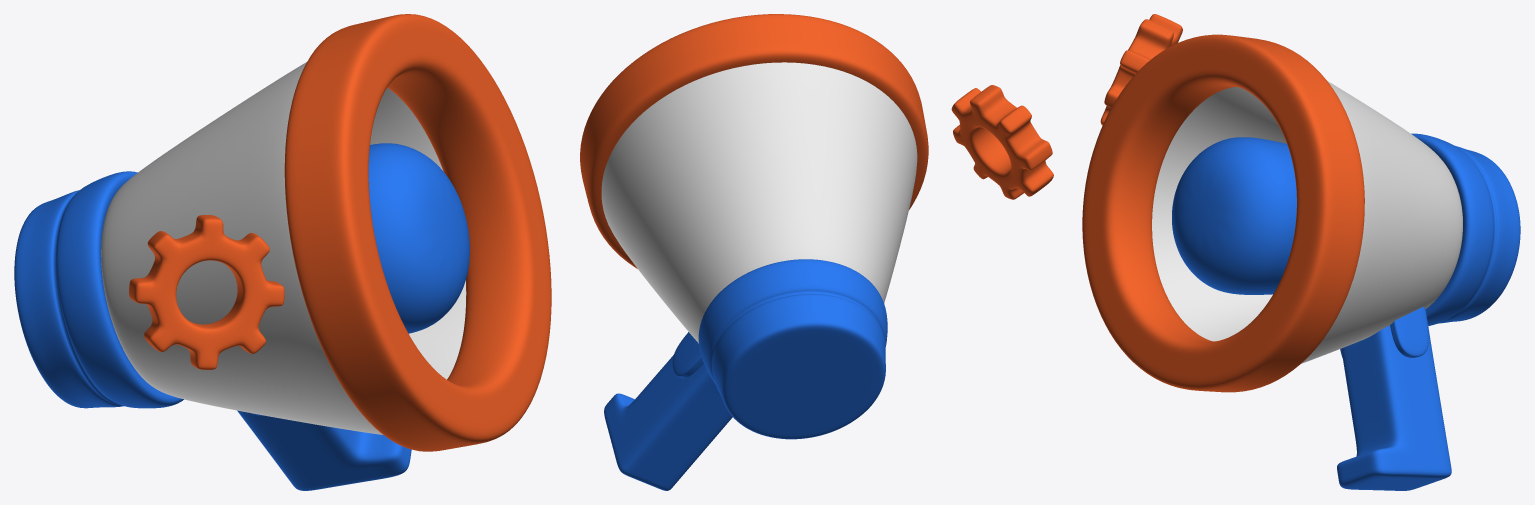
Rendered from marketing-strategy-3d-animated-icon-1089692468702.glb.
3 renders of one model, left to right at view 1: azimuth 30°, elevation 25°; view 2: azimuth 150°, elevation 25°; view 3: azimuth 270°, elevation 25°, orthographic. The views are drawn at different scales.
Parts seen in each view (by area): view 1: Speaker, gear, handle; view 2: Speaker, handle, gear; view 3: Speaker, handle, gear.
Boxes of the visible parts, x1,y1,x2,y2 form: Speaker: [14, 14, 551, 451]; gear: [129, 215, 284, 369]; handle: [237, 410, 411, 490]; Speaker: [580, 14, 928, 439]; handle: [604, 332, 732, 490]; gear: [951, 85, 1053, 199]; Speaker: [1082, 34, 1520, 392]; handle: [1337, 306, 1451, 490]; gear: [1100, 14, 1182, 125].
Size of the model in its own units: 2.9 by 2.99 by 2.72.
